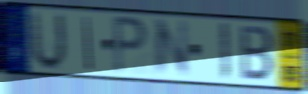B: (239, 23, 276, 83)
I: (218, 21, 231, 83), (82, 15, 94, 73)
N: (153, 18, 191, 79)
P: (112, 13, 150, 78)
U: (30, 9, 68, 72)
